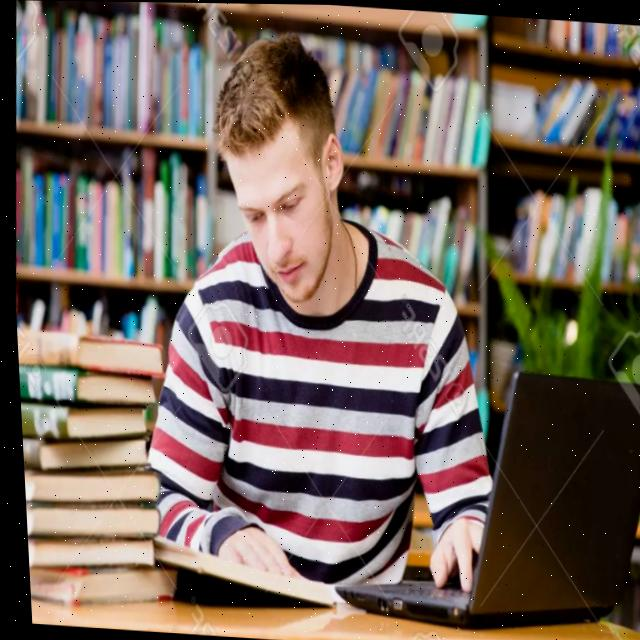studying-person: (0, 0, 515, 635)
